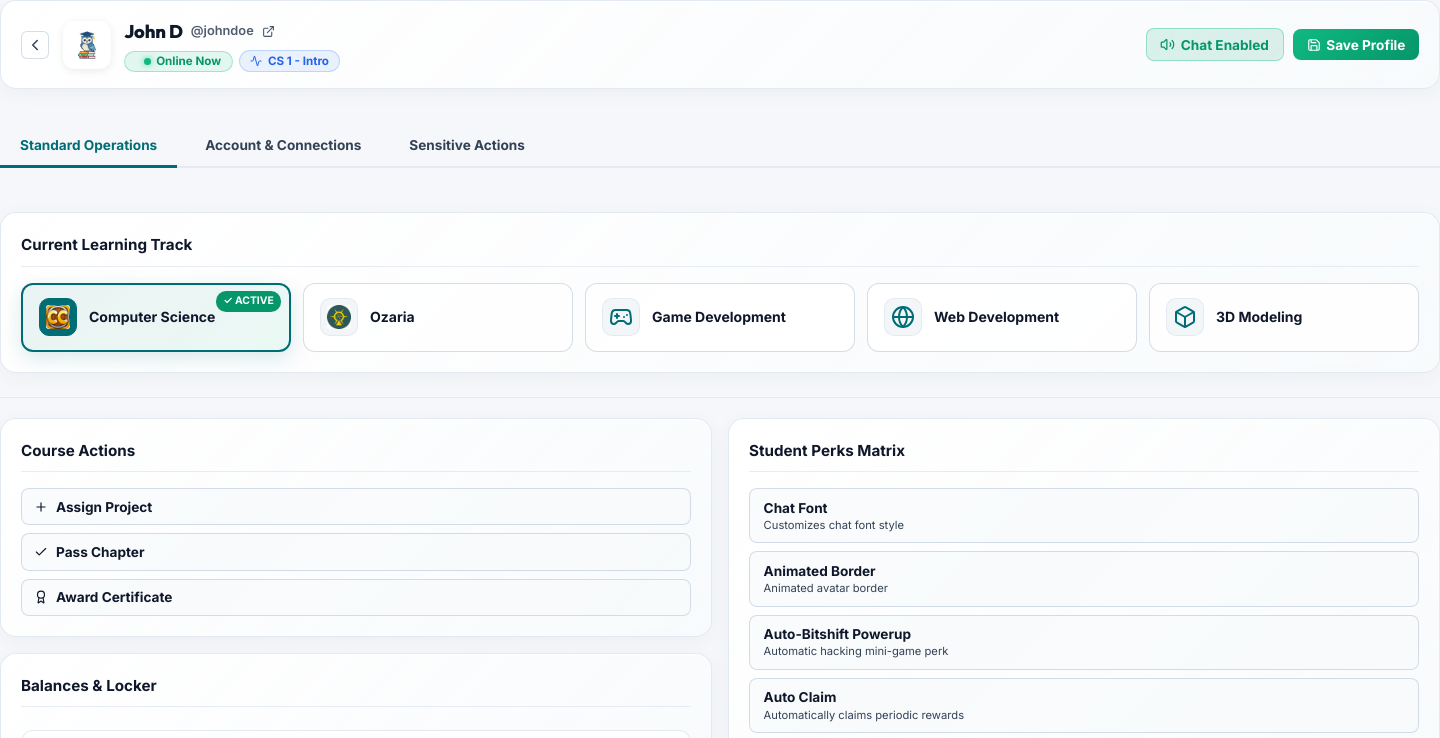
Scenario: AdminUserDashboard Component Redesign › administrator accounts › offers Delete Account for a student
Expected: the text "@johndoe" is shown, top-left (191, 22), bottom-right (254, 42)
Step 1. Click the button "Account & Connections" → {"x": 283, "y": 147}, box top-left (185, 125), bottom-right (381, 168)
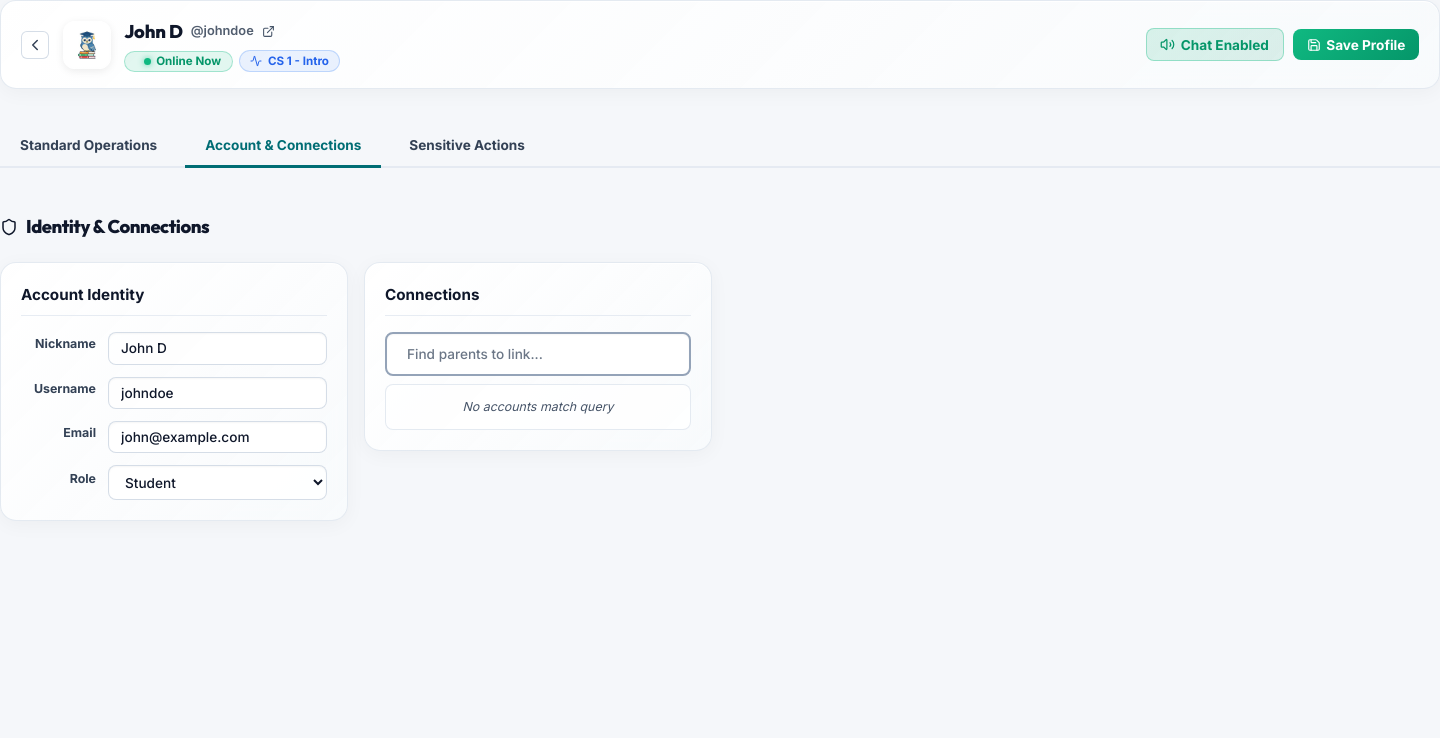
Now the field labelled "Username" holds "johndoe", box top-left (108, 377), bottom-right (327, 409)
Step 2. Click the button "Sensitive Actions" → {"x": 467, "y": 147}, box top-left (389, 125), bottom-right (545, 168)
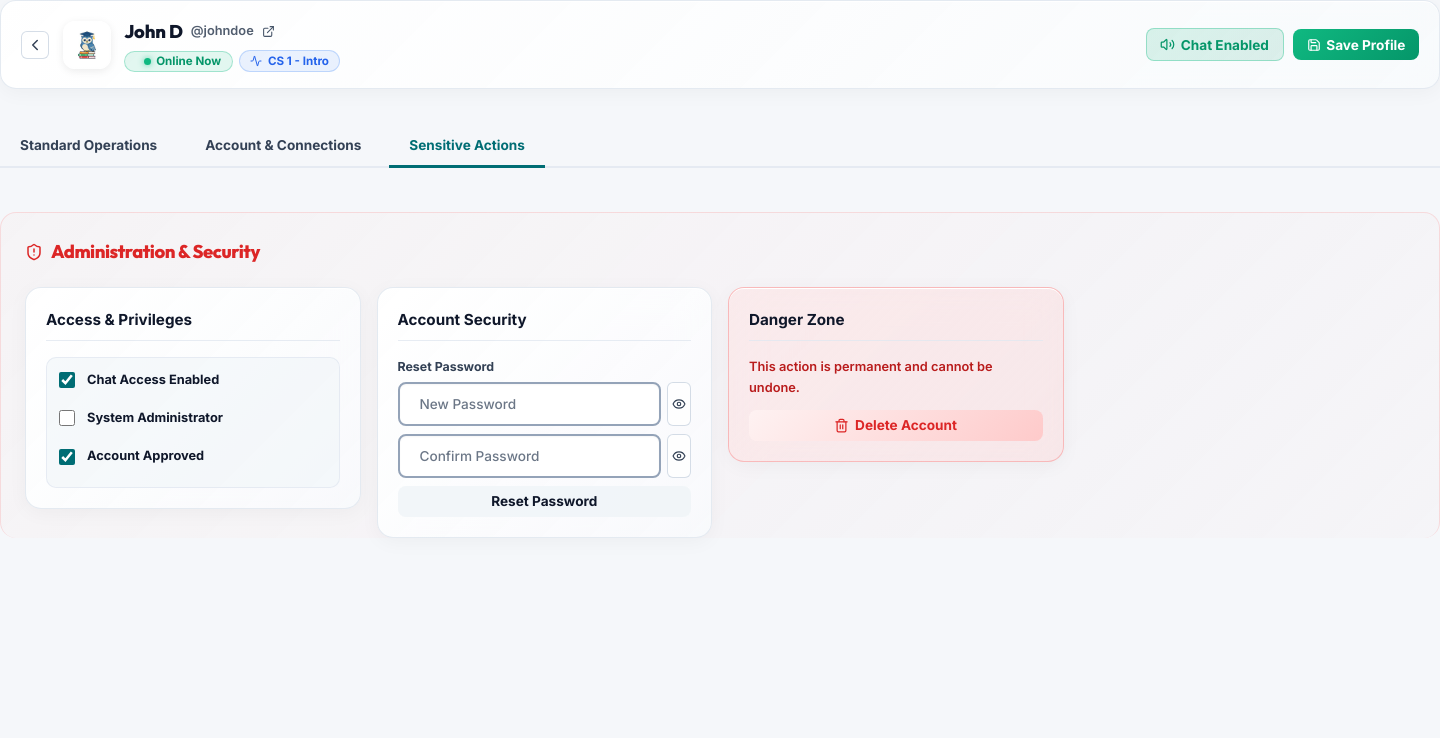
Now the text "Danger Zone" is shown, box top-left (749, 308), bottom-right (1042, 341)
Now the button "Delete Account" is shown, box top-left (749, 410), bottom-right (1042, 441)
Now the checkbox labelled "System Administrator" is not checked, box top-left (59, 410), bottom-right (75, 426)
